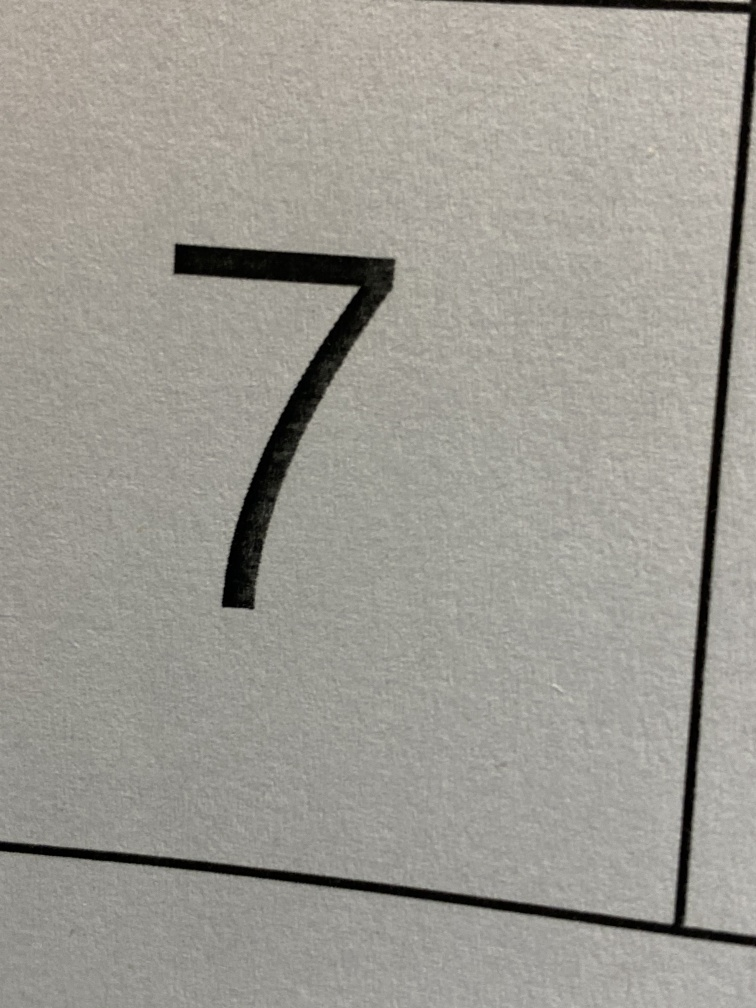seven: (73, 149, 472, 692)
